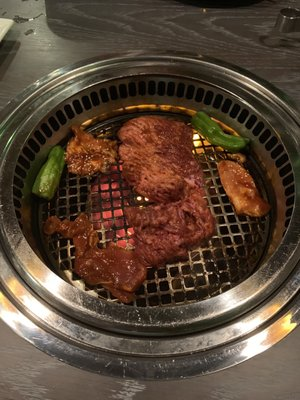sushi: (0, 34, 300, 386)
